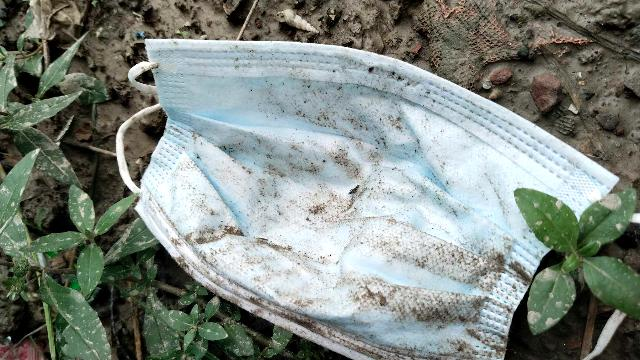mask: (98, 23, 617, 360)
